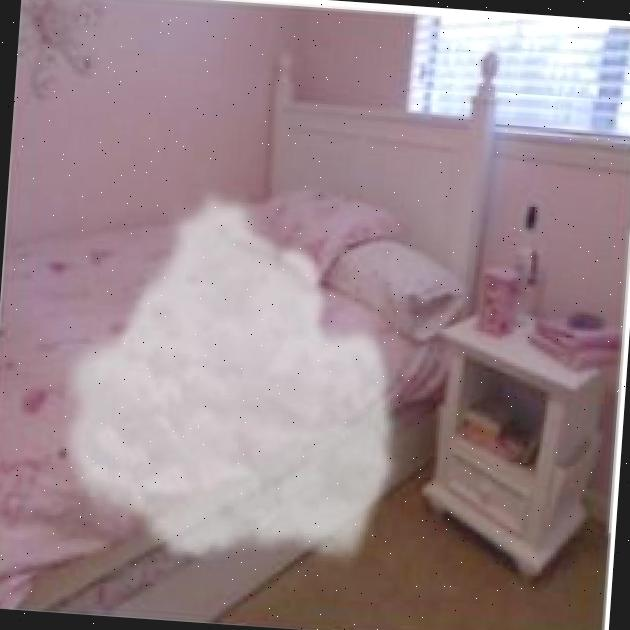smoke: (44, 176, 420, 578)
